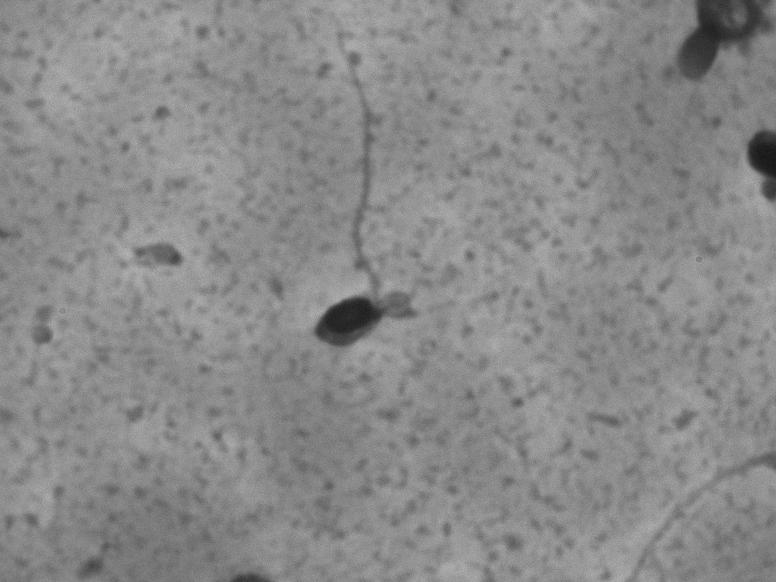Abnormal: (286, 16, 437, 373)
